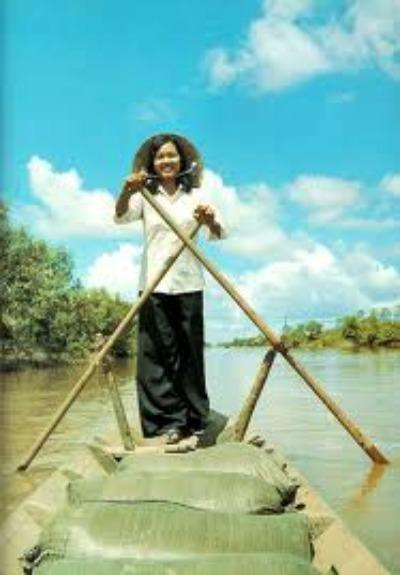person: (114, 134, 230, 445)
